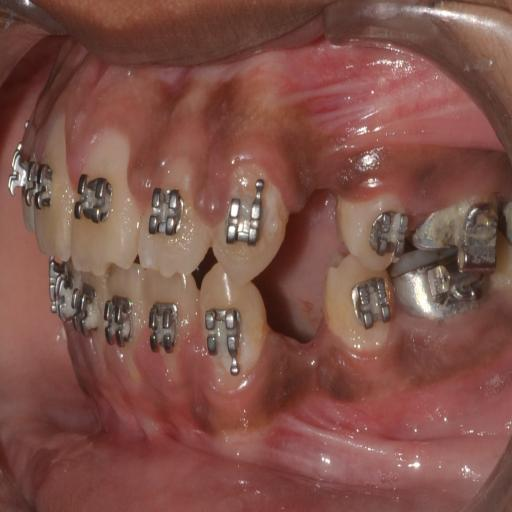correct_brace: (328, 260, 399, 362), (337, 173, 410, 269), (219, 177, 270, 258), (205, 295, 250, 379), (76, 161, 118, 242), (143, 174, 189, 244), (347, 276, 397, 335), (149, 296, 186, 362), (104, 286, 135, 358)
incorrect_brace: (137, 144, 208, 279), (143, 278, 200, 382), (367, 198, 406, 260)
